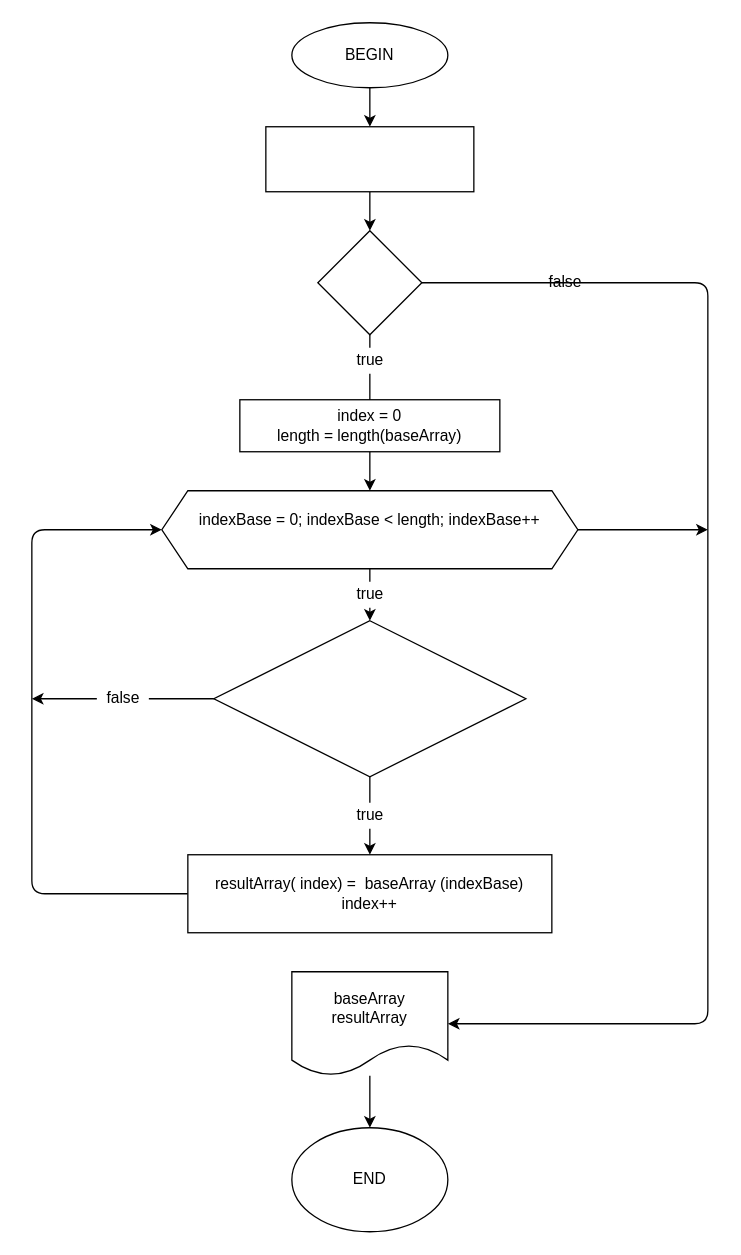
Some shapes in this 741 by 1255 pixel diagram are drawn without their labels. Here are the shapes that lost their labels. From the top down, the centre of each, then its label:
At (369,158): "size baseArray resultArray".
At (369,282): "size > 0".
At (369,698): "length( baseArray( indexBase)) < 4".
